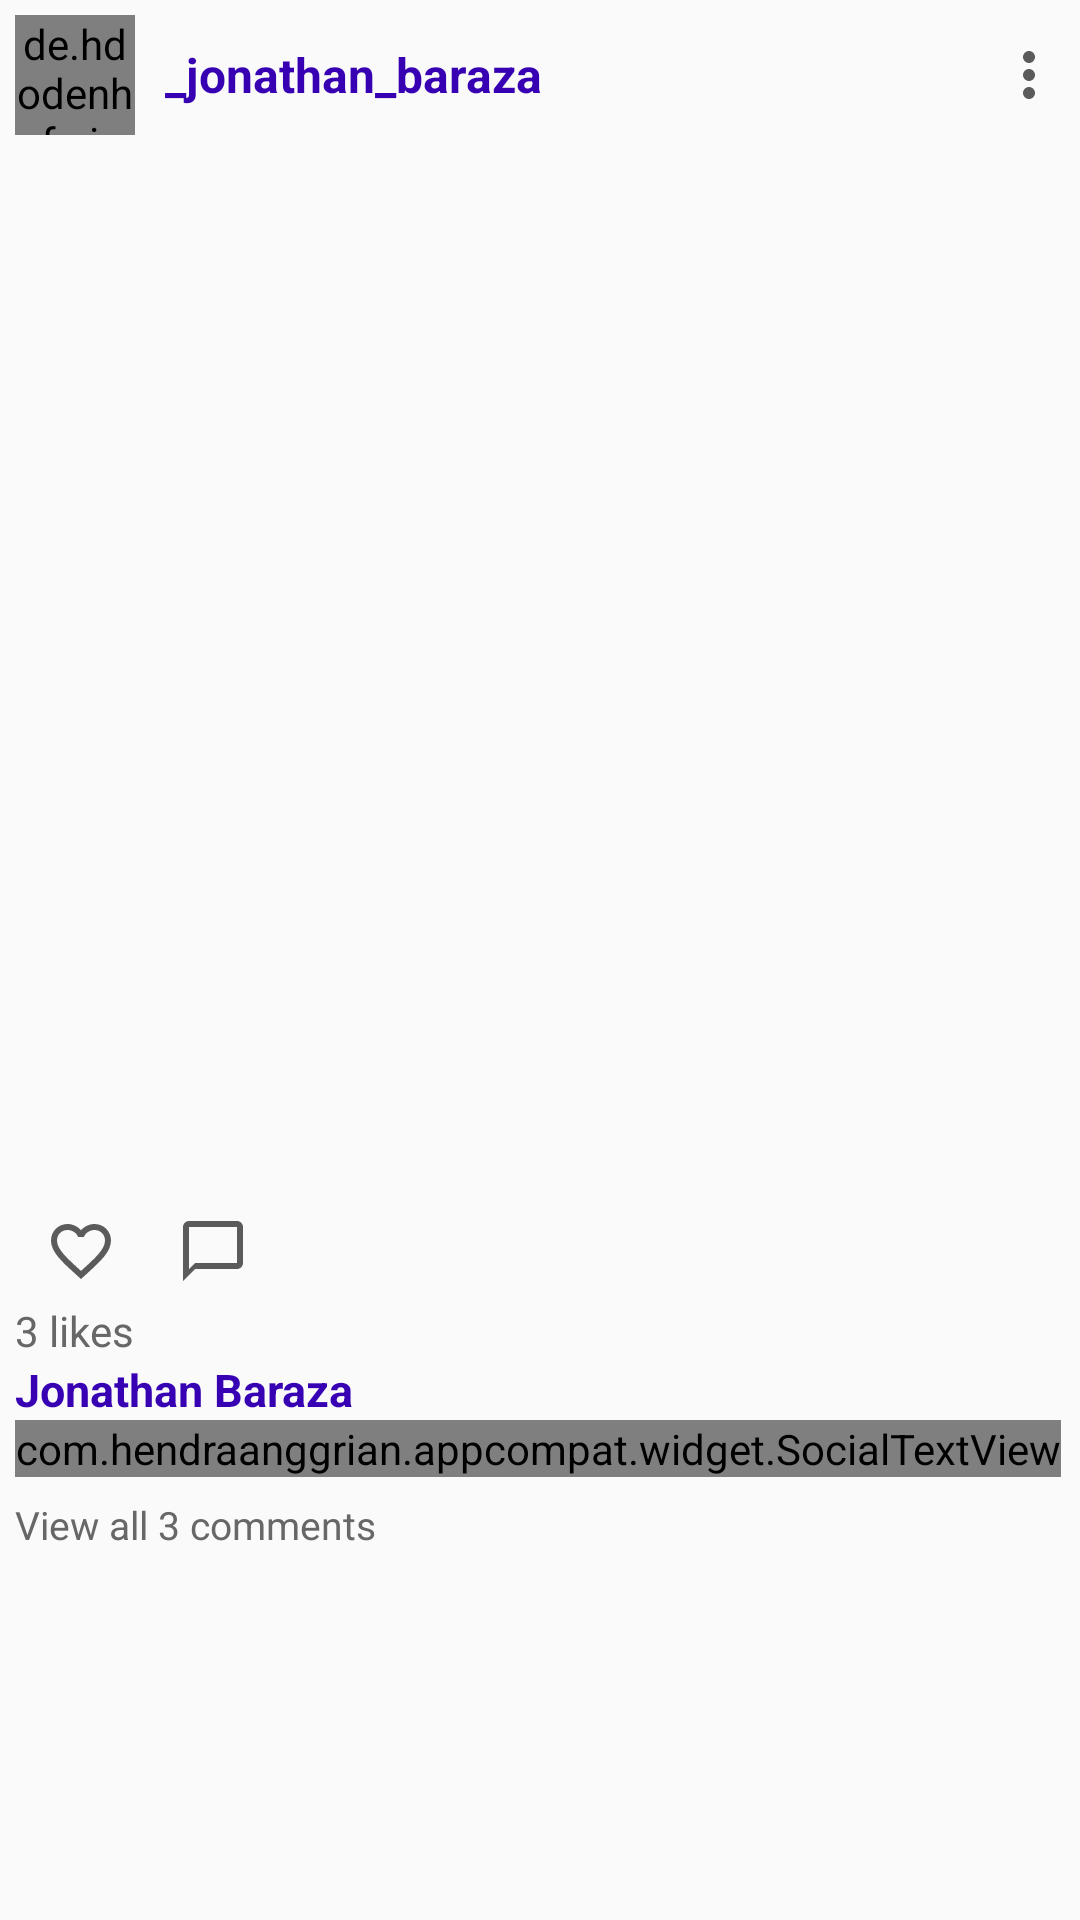

Named icons in this screenshot (1080px x 1920px) and their centers, [x,y]:
comment: [213,1251]
more: [1029,75]
